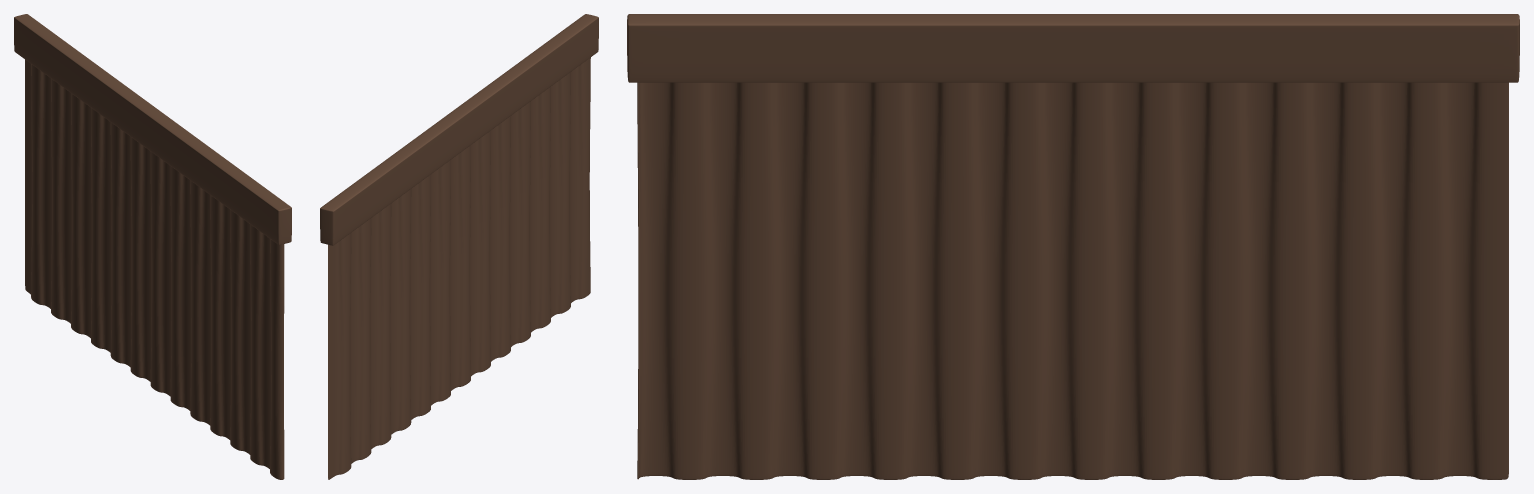
File: Curtains.fbx
3 renders of one model, left to right at view 1: azimuth 30°, elevation 25°; view 2: azimuth 150°, elevation 25°; view 3: azimuth 270°, elevation 25°, orthographic. The views are drawn at different scales.
Parts seen in each view (by area): view 1: Curtain|Plane.001|Dupli|, Curtain|Cube.002|Dupli|1; view 2: Curtain|Plane.001|Dupli|, Curtain|Cube.002|Dupli|1; view 3: Curtain|Plane.001|Dupli|, Curtain|Cube.002|Dupli|1.
Boxes of the visible parts, x1,y1,x2,y2 form: Curtain|Plane.001|Dupli|: [25, 59, 284, 479]; Curtain|Cube.002|Dupli|1: [14, 14, 291, 244]; Curtain|Plane.001|Dupli|: [328, 57, 590, 479]; Curtain|Cube.002|Dupli|1: [320, 14, 598, 245]; Curtain|Plane.001|Dupli|: [637, 82, 1508, 479]; Curtain|Cube.002|Dupli|1: [627, 14, 1519, 82].
Bounding box in the file's own units: 11.11 × 206 × 363.
